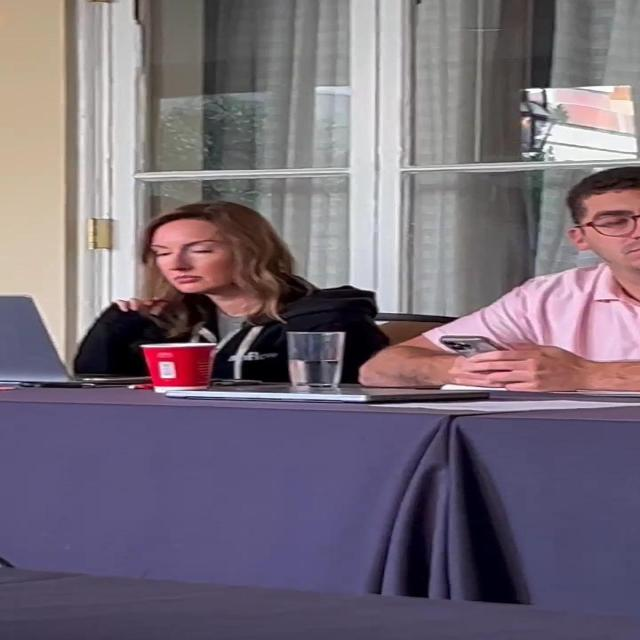NO-Mask: (148, 217, 238, 294), (585, 188, 640, 274)
